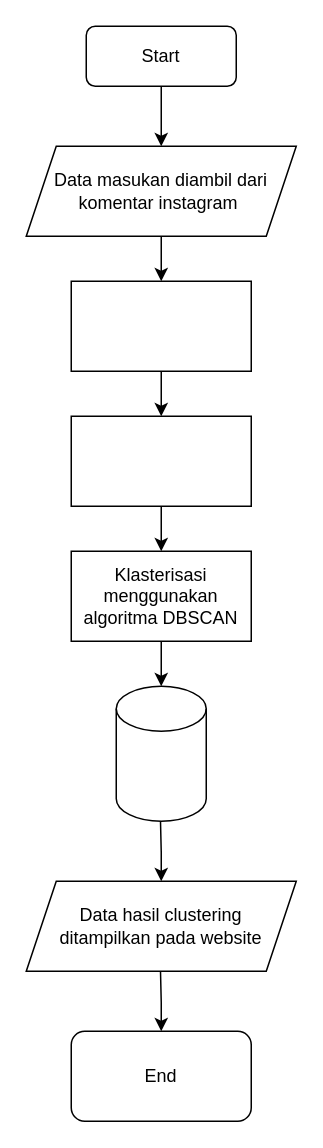
Some shapes in this 323 by 1148 pixel diagram are drawn without their labels. Each missing label, with the centre of its shape:
"Clustering Data" goes at (x=160, y=753).
"Melakukan pembobotan kata menggunakan TF-IDF" goes at (x=160, y=460).
"Melakukan tahapan Pre-processing" goes at (x=160, y=325).
